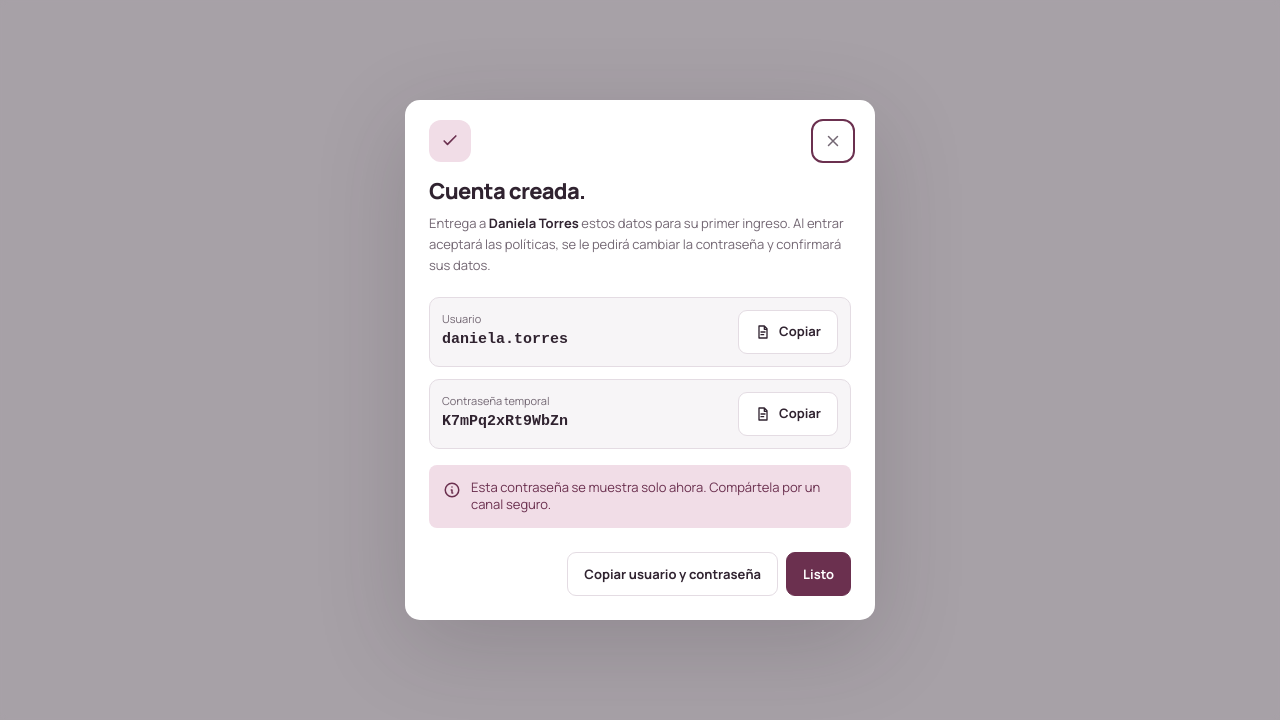
Test case: DialogoCredenciales › copia el usuario y la contraseña al portapapeles
Click the button "Copiar usuario y contraseña" at (673, 574), box [567, 552, 778, 596]
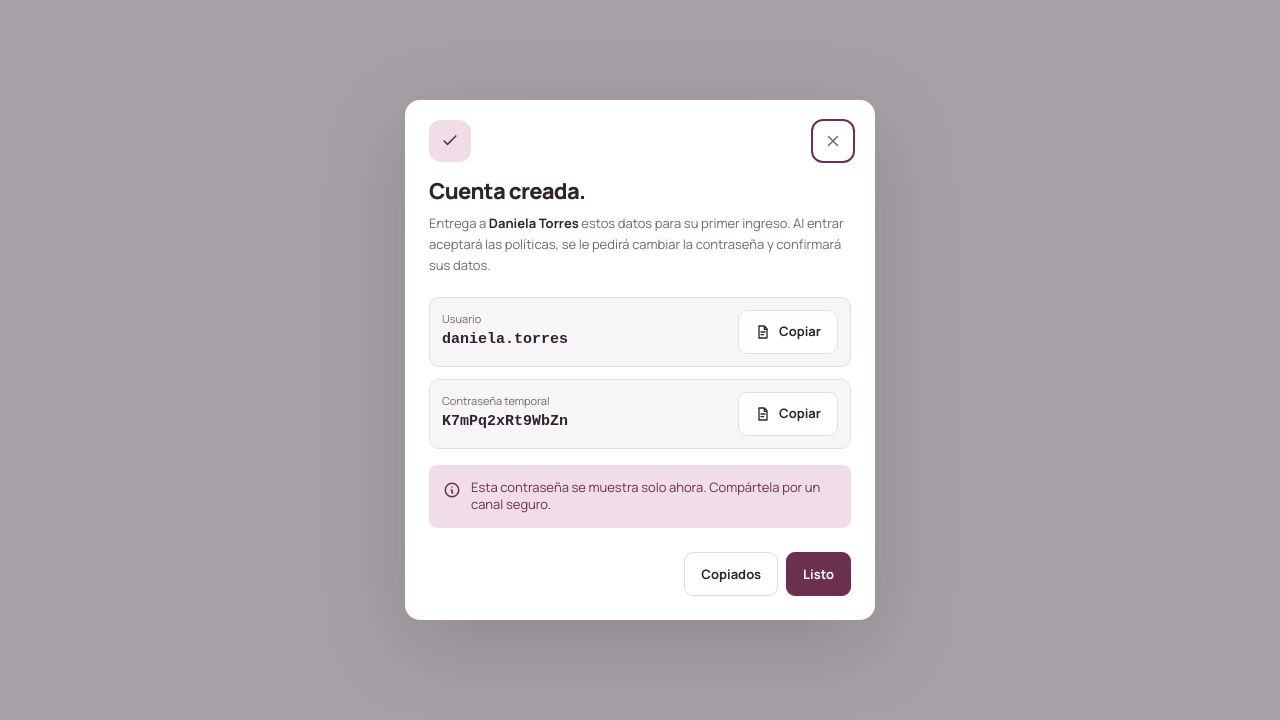
expect the text "Copiados" is shown: met, box [684, 552, 778, 596]
